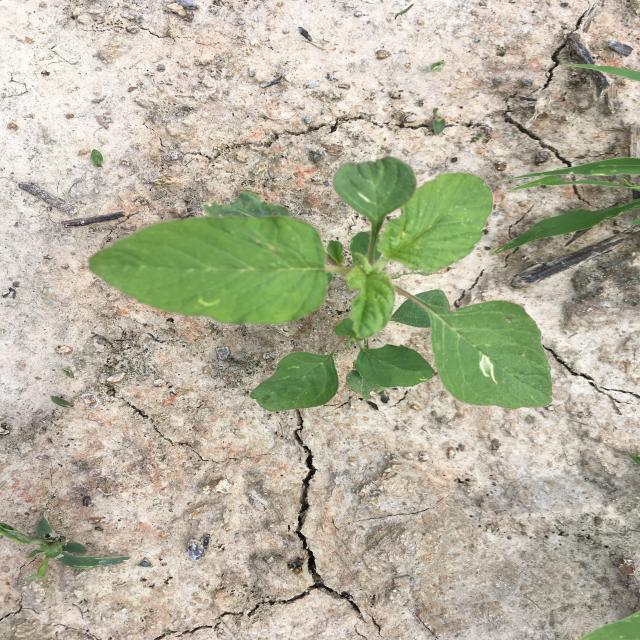PalmerAmaranth: (88, 156, 553, 412)
